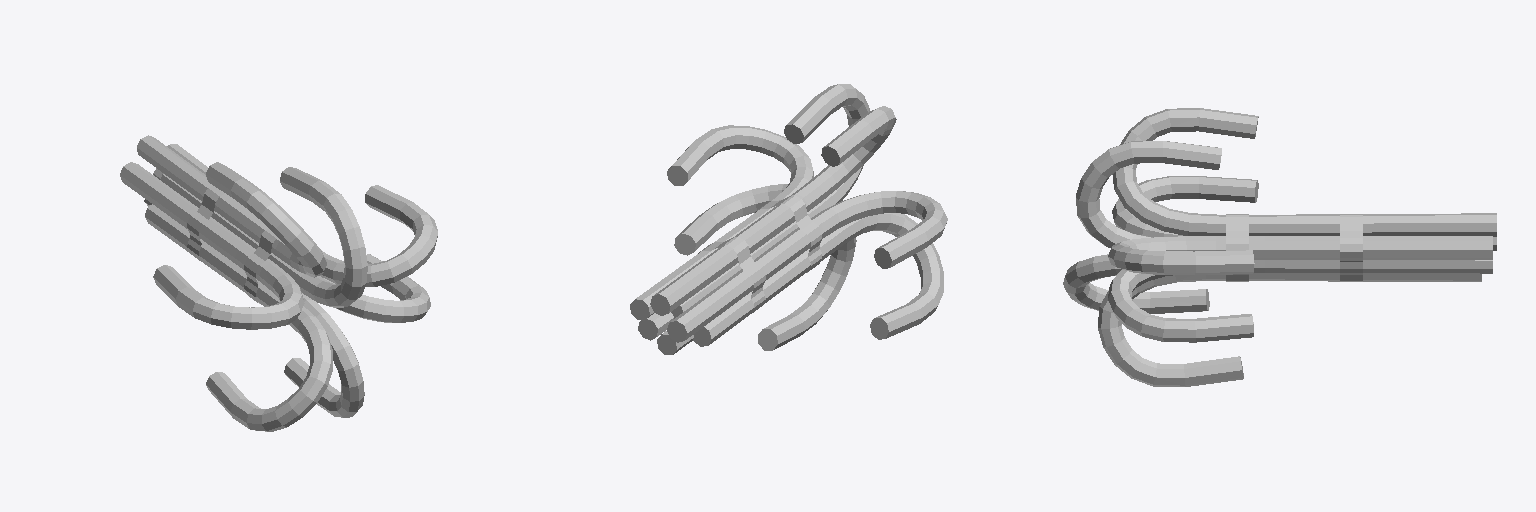
Rendered from candy_cane.obj.
The picture shows the model from 3 angles: view 1: azimuth 30°, elevation 25°; view 2: azimuth 150°, elevation 25°; view 3: azimuth 270°, elevation 25°; orthographic projection.
Parts seen in each view (by area): view 1: Candy_Canes; view 2: Candy_Canes; view 3: Candy_Canes.
Boxes of the visible parts, box(x1,y1,x2,y2) form: Candy_Canes: box(120, 135, 437, 431); Candy_Canes: box(630, 84, 947, 354); Candy_Canes: box(1063, 108, 1496, 386).
Size of the model in its own units: 13.18 by 12.54 by 20.53.